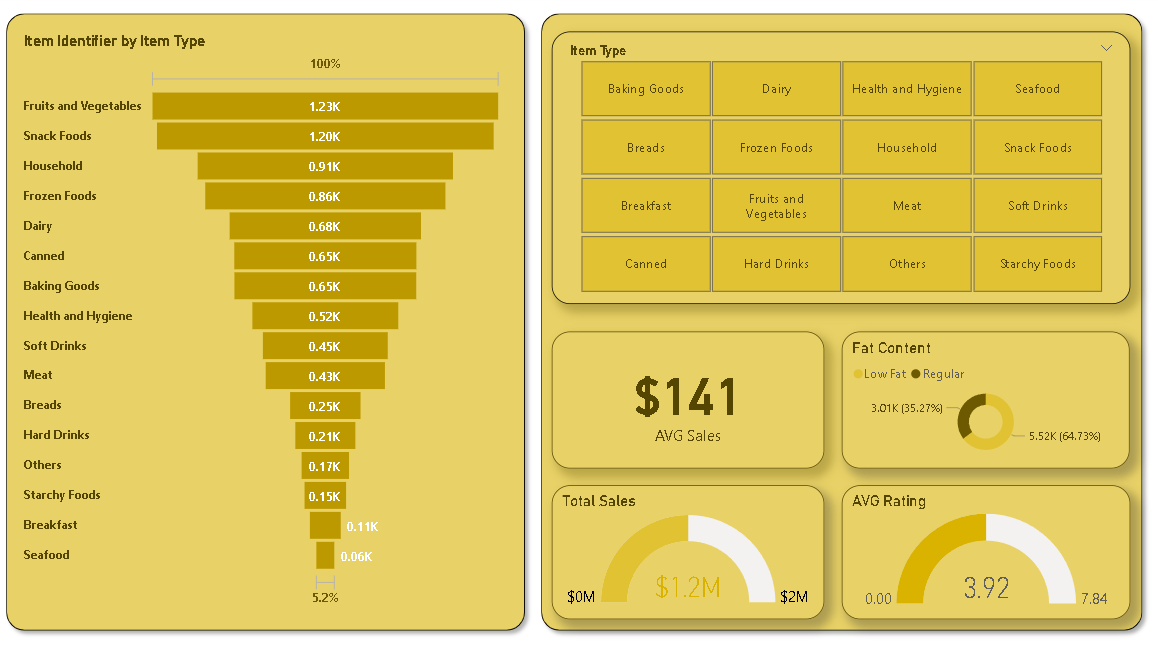

The page's visual inventory and layout, read from the dashboard file:
{"tool":"powerbi","page":{"name":"Summery","canvas":[1280,720],"ordinal":1},"visuals":[{"type":"shape","box":[0,11.7,587.5,695.4],"z":0},{"type":"shape","box":[587.5,11.7,677.9,695.4],"z":1000},{"type":"funnel","title":"Item Identifier by Item Type","fields":{"Category":["Grocery Data.Item Type"],"Y":["CountNonNull(Grocery Data.Item Identifier)"]},"box":[23.3,40.9,535.9,638.1],"z":2000},{"type":"slicer","fields":{"Values":["Grocery Data.Item Type"]},"box":[607.9,40.9,635.1,299.6],"z":3000},{"type":"card","fields":{"Values":["Measure.AVG Sales"]},"box":[607.9,370.6,299.6,150.8],"z":4000},{"type":"donutChart","title":"Fat Content","fields":{"Category":["Grocery Data.Item Fat Content"],"Y":["CountNonNull(Grocery Data.Item Type)"]},"box":[926.9,370.6,316.1,150.8],"z":5000},{"type":"gauge","fields":{"Y":["Measure.Total Sales"]},"box":[607.9,538.8,299.6,146.9],"z":6000},{"type":"gauge","fields":{"Y":["Measure.AVG Rating"]},"box":[926,538.8,317.1,146.9],"z":7000}]}

Visuals, with their boxes in screenshot pixels (x1, y1, x2, y2), scaled from the page's 1280x720 canvas onto the 1158x647 screenshot:
shape: 0, 11, 532, 635
shape: 532, 11, 1145, 635
"Item Identifier by Item Type" funnel: 21, 37, 506, 610
slicer - Grocery Data.Item Type: 550, 37, 1125, 306
card - Measure.AVG Sales: 550, 333, 821, 469
"Fat Content" donutChart: 839, 333, 1125, 469
gauge - Measure.Total Sales: 550, 484, 821, 616
gauge - Measure.AVG Rating: 838, 484, 1125, 616
